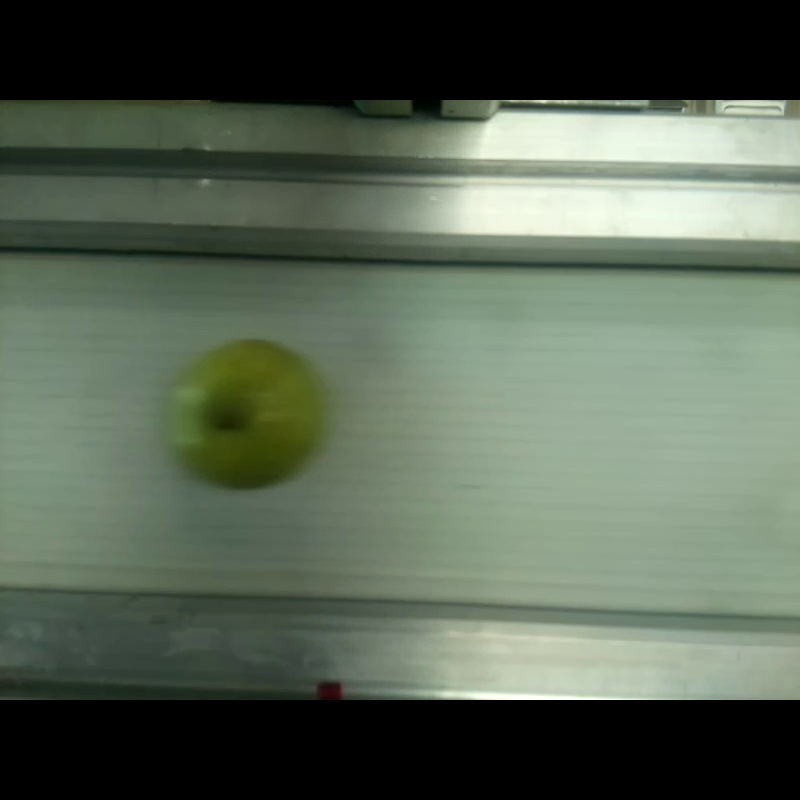lime: (171, 341, 322, 488)
